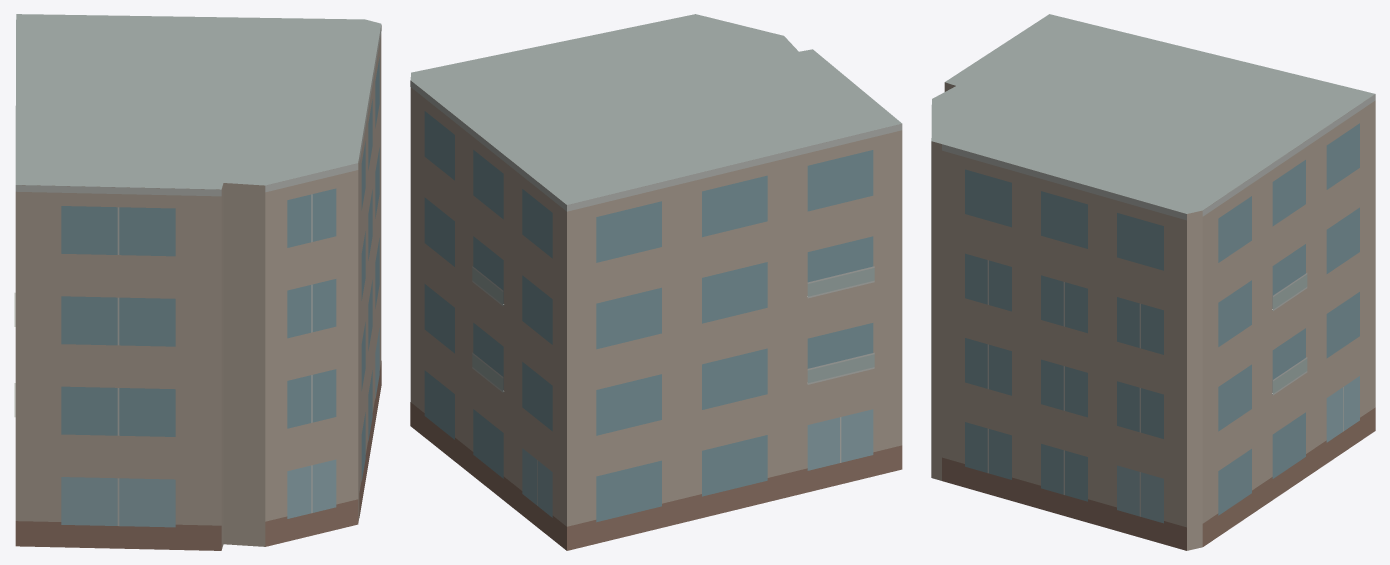
The model's file is survey-upis-33034031.glb.
3 views of the same model, side by side, from view 1: azimuth 30°, elevation 25°; view 2: azimuth 150°, elevation 25°; view 3: azimuth 270°, elevation 25° (orthographic). The views are drawn at different scales.
Parts seen in each view (by area): view 1: survey-upis-33034031.tmp; view 2: survey-upis-33034031.tmp; view 3: survey-upis-33034031.tmp.
Boxes of the visible parts, <box> form: survey-upis-33034031.tmp: <box>14,14,381,550</box>; survey-upis-33034031.tmp: <box>410,14,902,550</box>; survey-upis-33034031.tmp: <box>931,14,1375,550</box>.
Bounding box in the file's own units: 16.31 × 12.8 × 15.3.
